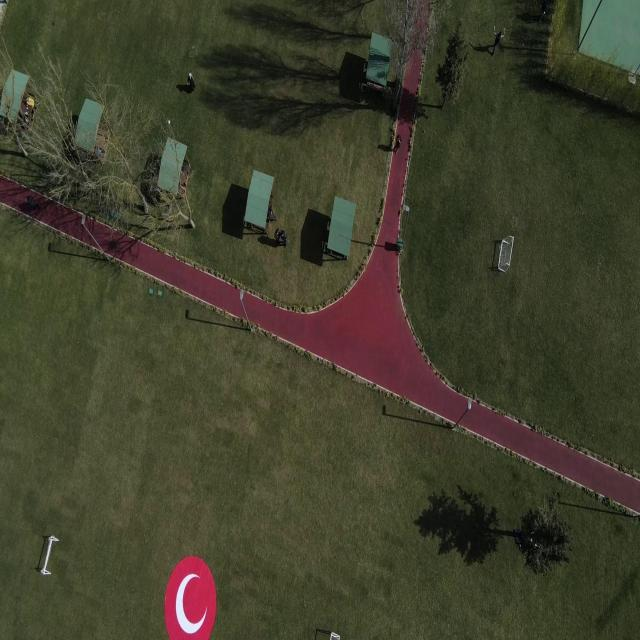p3rson: (492, 24, 505, 56), (187, 72, 196, 92), (538, 1, 546, 23), (26, 195, 37, 210), (274, 228, 281, 246), (281, 229, 287, 249), (268, 207, 276, 221), (26, 96, 34, 108), (396, 135, 401, 154), (96, 146, 101, 156), (182, 163, 186, 172)
